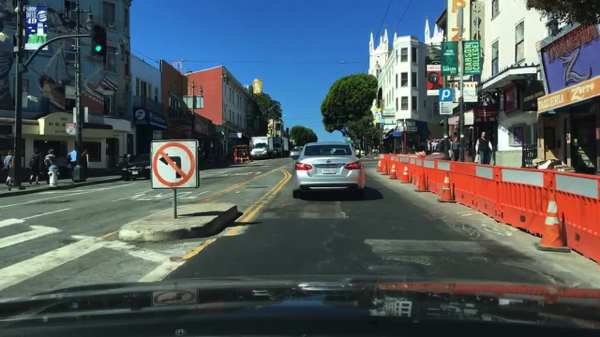car: (292, 143, 365, 198), (116, 153, 151, 181), (288, 148, 301, 159), (294, 146, 303, 152)
person: (28, 148, 44, 186), (475, 130, 492, 163), (3, 149, 17, 187), (67, 146, 81, 183), (44, 149, 58, 186), (79, 148, 90, 182), (450, 135, 462, 162), (440, 135, 450, 159), (423, 139, 433, 156), (434, 139, 443, 155), (124, 153, 134, 165), (430, 139, 438, 153)
traffic light: (92, 25, 108, 55)
traffic sign: (151, 140, 198, 190), (439, 86, 455, 115), (72, 106, 89, 123), (65, 124, 75, 135)
truck: (249, 136, 276, 160), (273, 137, 289, 157)
